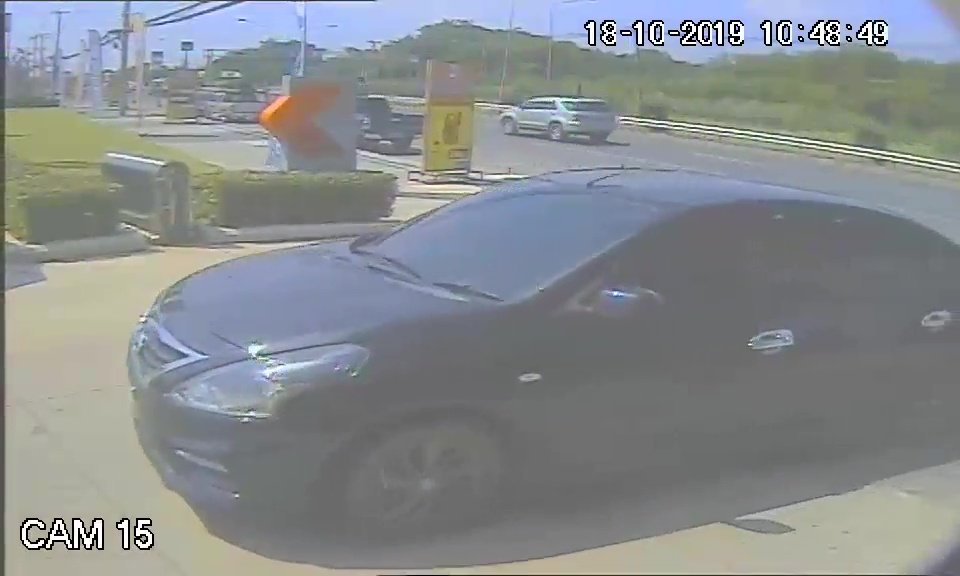sedan: (119, 165, 951, 528)
